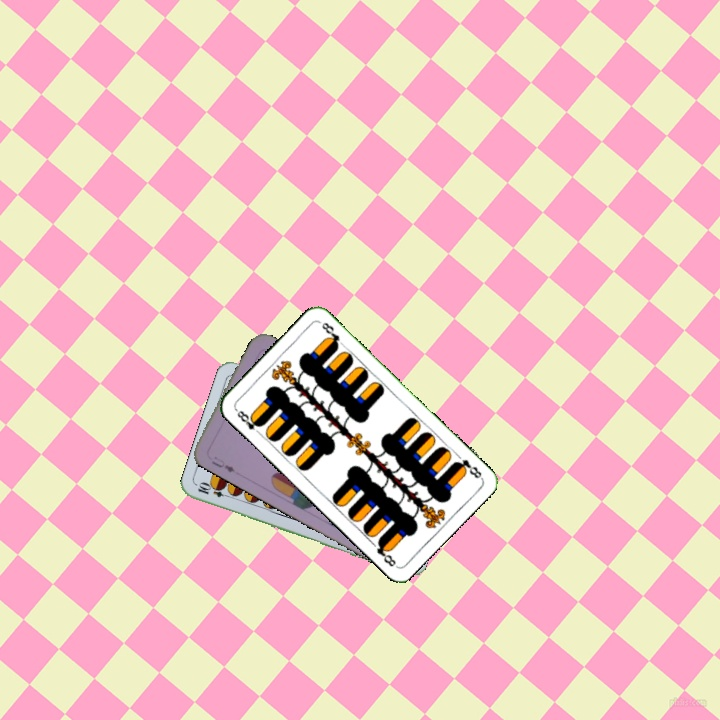E10: (194, 480, 234, 500)
E8: (231, 405, 265, 437), (450, 455, 484, 481)
EU: (208, 453, 238, 475)
